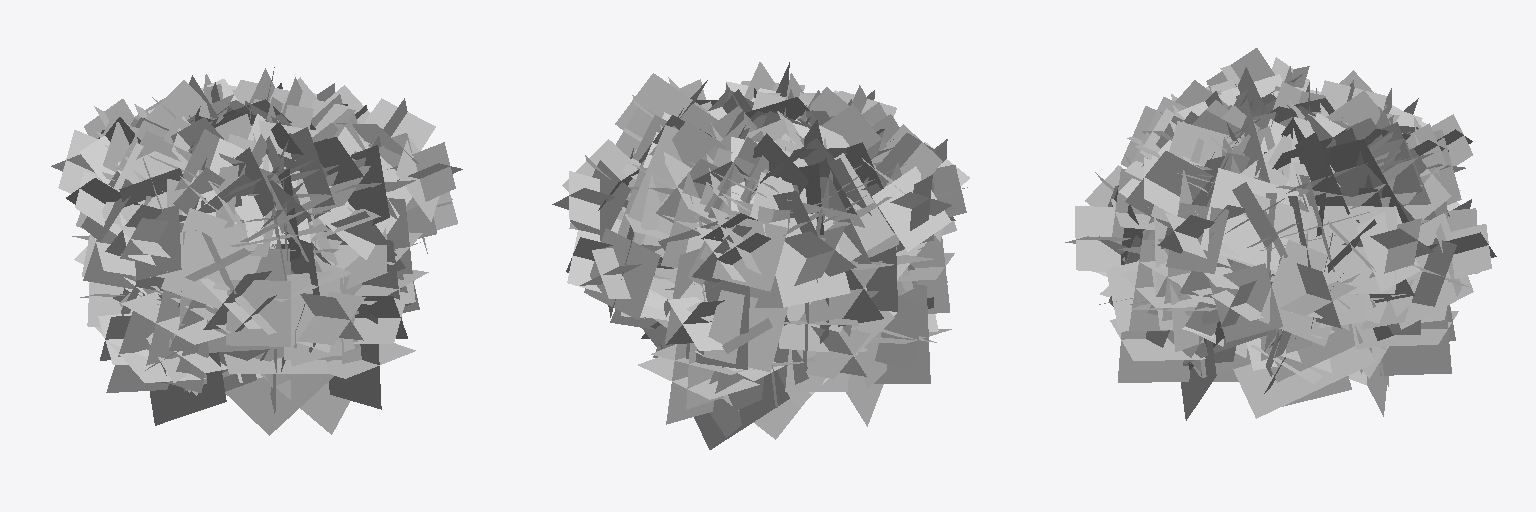
The model's file is Bush_Common.obj.
The picture shows the model from 3 angles: view 1: azimuth 30°, elevation 25°; view 2: azimuth 150°, elevation 25°; view 3: azimuth 270°, elevation 25°; orthographic projection.
Visible parts, largest first — view 1: Bush_Common; view 2: Bush_Common; view 3: Bush_Common.
Boxes of the visible parts, x1=… form: Bush_Common: x1=51, y1=67, x2=462, y2=435; Bush_Common: x1=552, y1=62, x2=969, y2=449; Bush_Common: x1=1065, y1=48, x2=1496, y2=420.
Bounding box in the file's own units: 1.91 × 1.58 × 1.97.